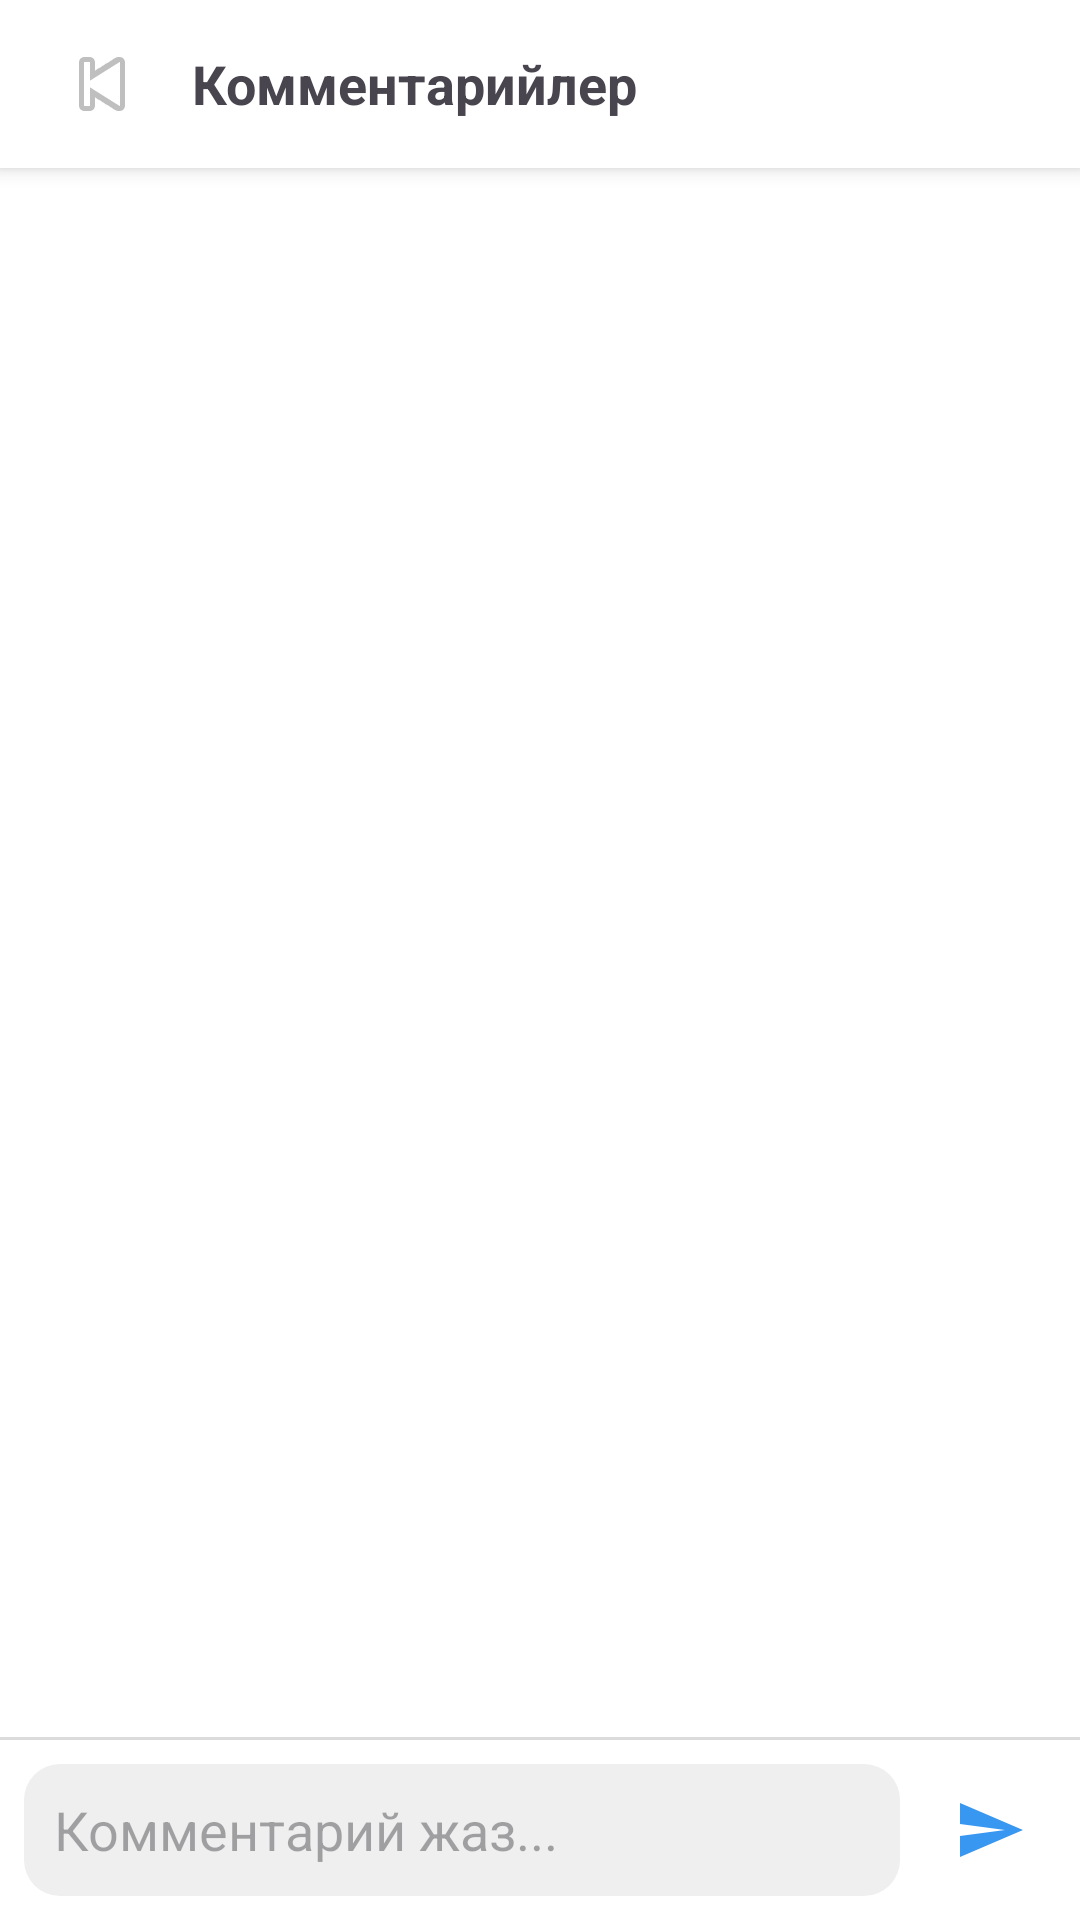

Icons on this 1080px×1920px Android screen, each with the point to tap as [x,y]:
previous: [102,84]
send: [991,1830]
